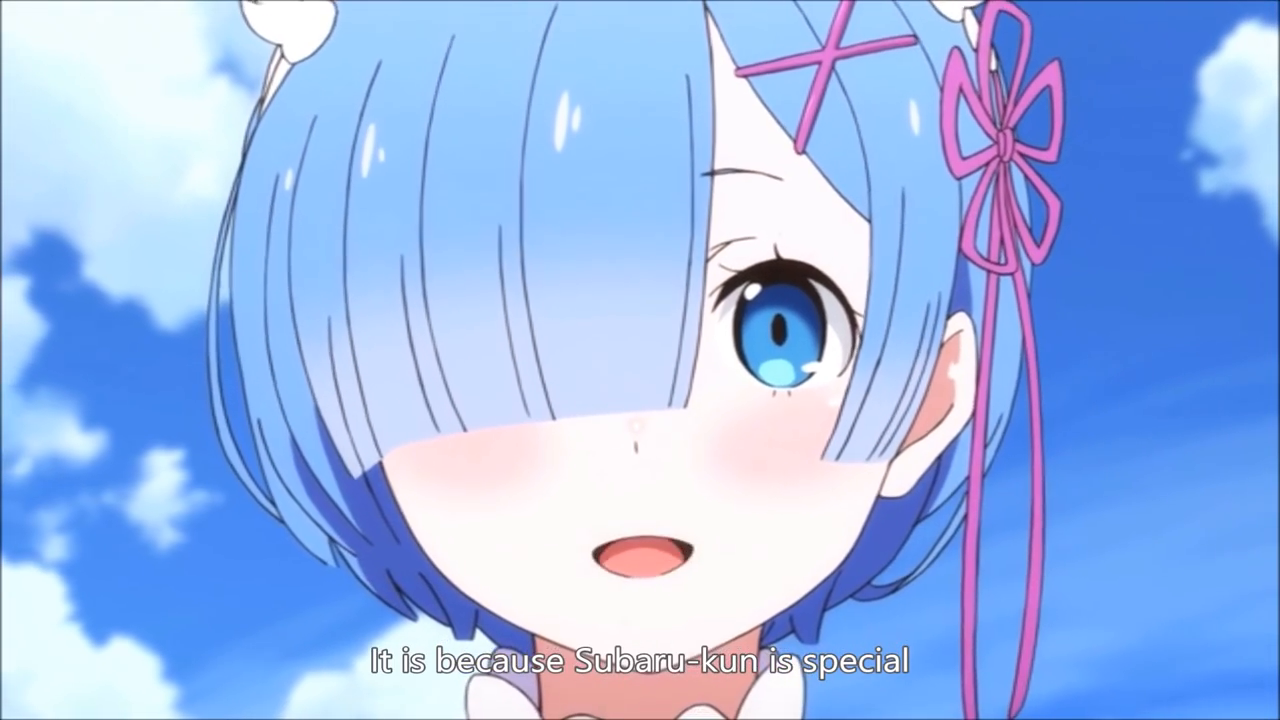REM: (210, 2, 1033, 671)
